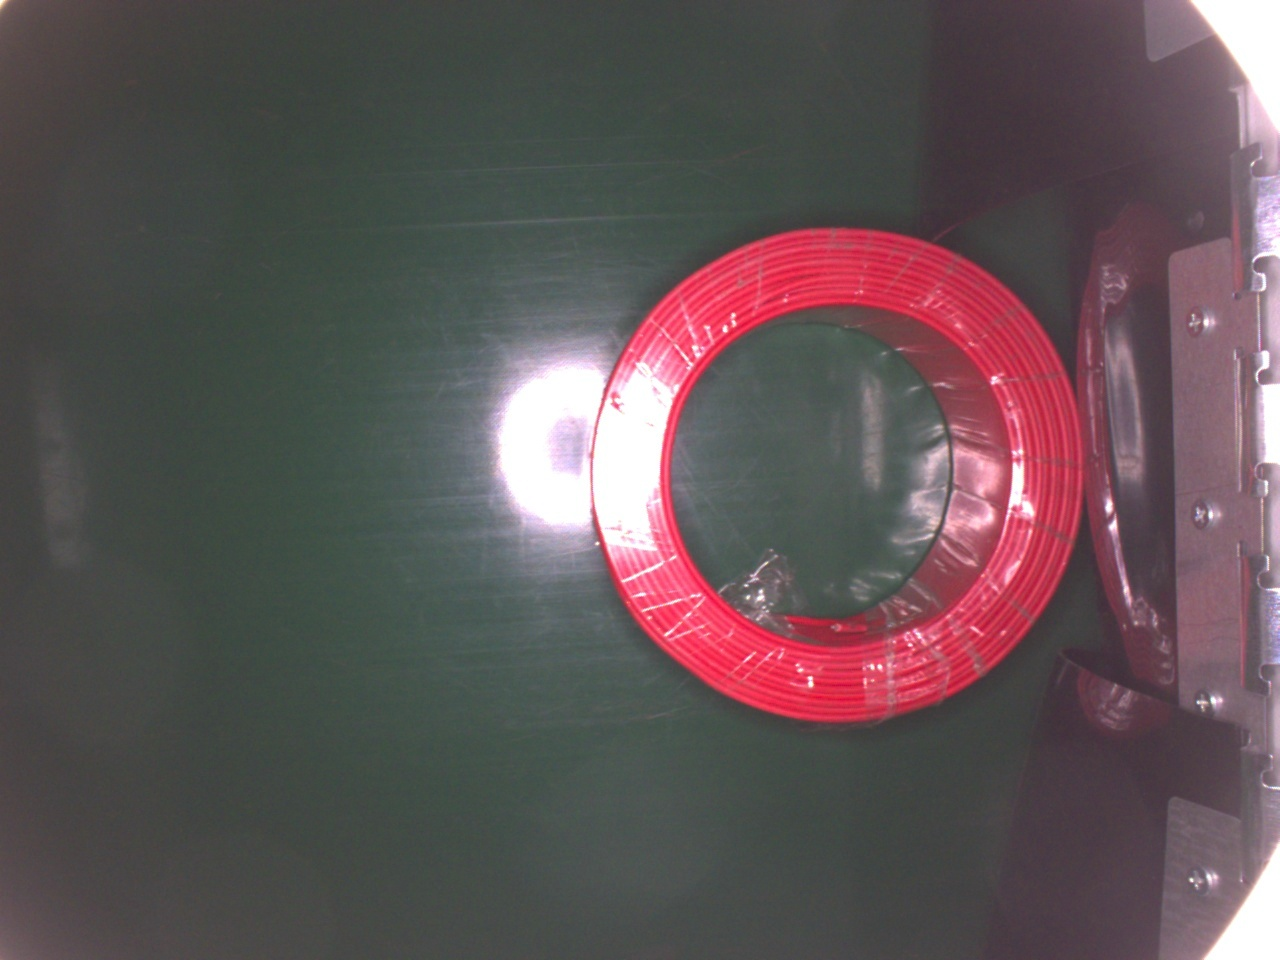red: (589, 221, 1085, 734)
